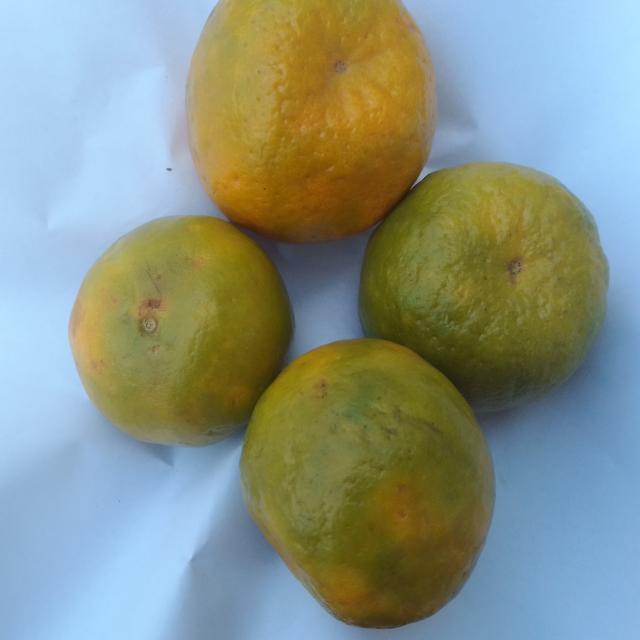orange: (241, 339, 494, 627), (360, 163, 608, 411), (187, 0, 435, 242), (69, 216, 292, 446)
